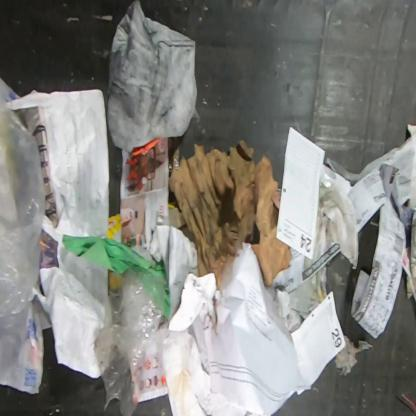soft_plastic: (0, 96, 46, 378), (94, 265, 165, 415)
